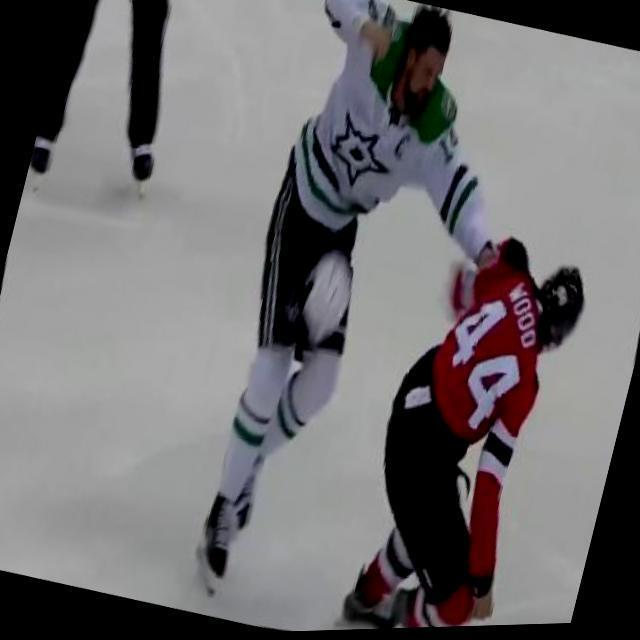fight: (150, 0, 640, 637)
